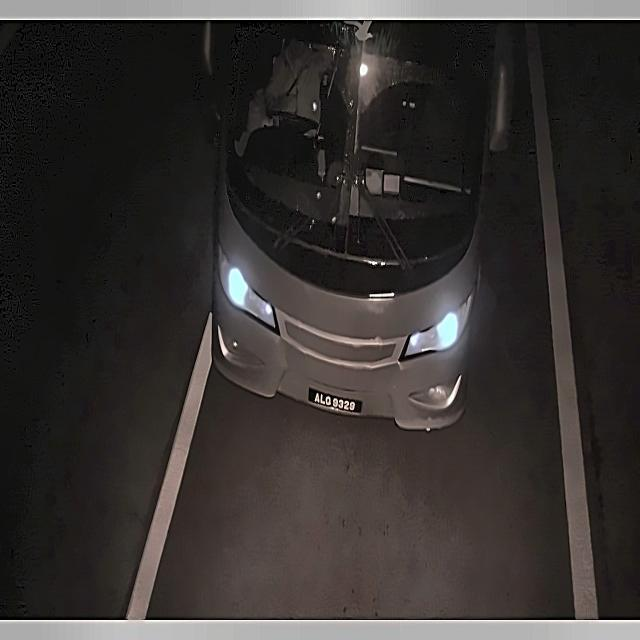car: (308, 384, 363, 420)
